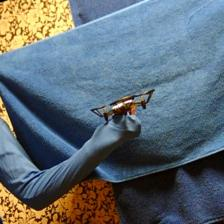drone: (89, 88, 157, 123)
